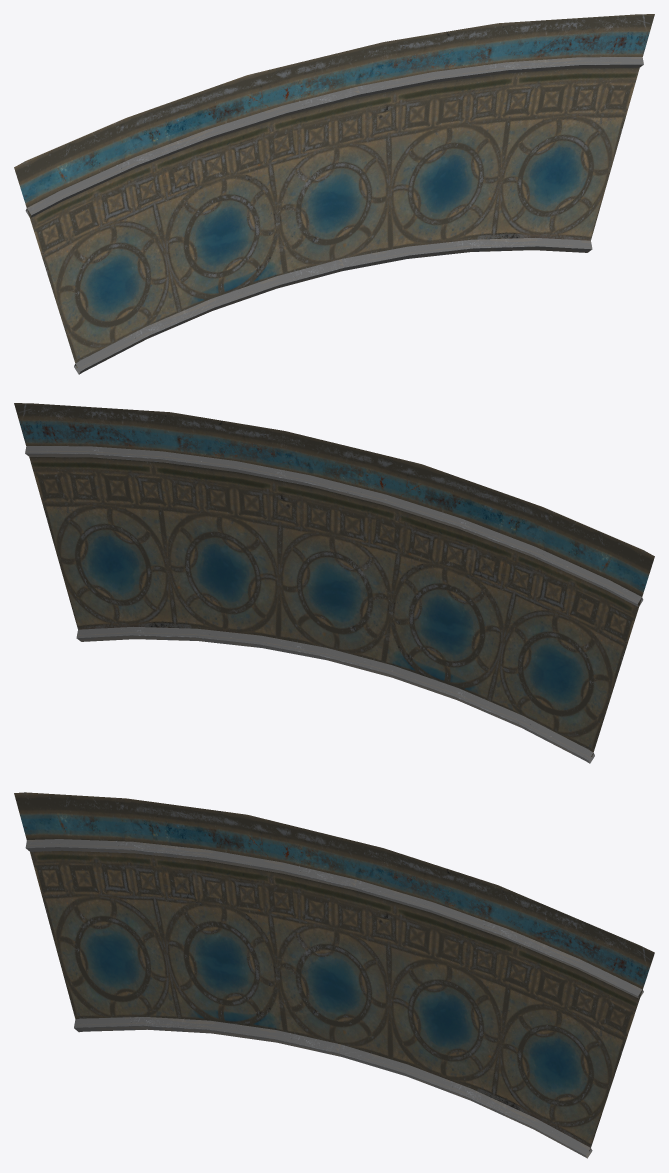
File: SM_OrnamentArch.FBX
3 views of the same model, one above another, from view 1: azimuth 30°, elevation 25°; view 2: azimuth 150°, elevation 25°; view 3: azimuth 330°, elevation 25° (orthographic).
Visible parts, largest first — view 1: SM_OrnamentArch; view 2: SM_OrnamentArch; view 3: SM_OrnamentArch.
Part boxes in pixels (box(x1,y1,x2,y2)): SM_OrnamentArch: box(14, 14, 654, 374); SM_OrnamentArch: box(14, 403, 654, 763); SM_OrnamentArch: box(14, 792, 654, 1158).
Bounding box in the file's own units: 564 × 10.08 × 219.
